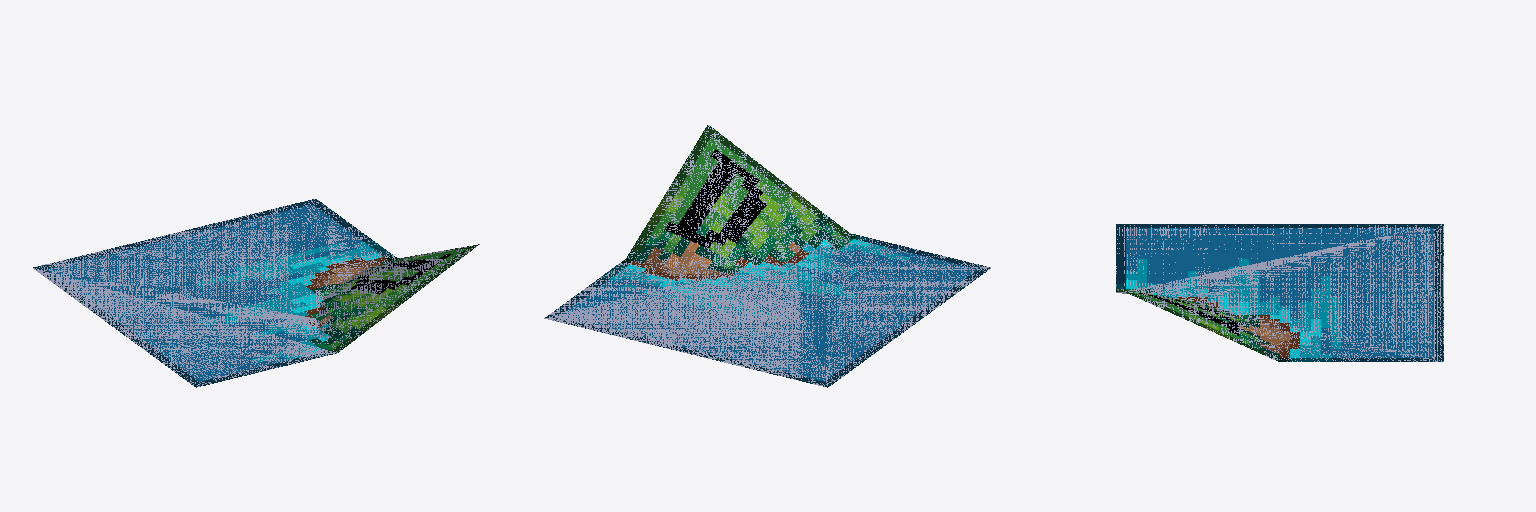
3 views of the same model, side by side, from view 1: azimuth 30°, elevation 25°; view 2: azimuth 150°, elevation 25°; view 3: azimuth 270°, elevation 25° (orthographic).
Parts seen in each view (by area): view 1: Mesh1 Model; view 2: Mesh1 Model; view 3: Mesh1 Model.
Boxes of the visible parts, <box> form: Mesh1 Model: <box>33,199,479,387</box>; Mesh1 Model: <box>544,125,990,387</box>; Mesh1 Model: <box>1116,224,1443,361</box>.
Size of the model in its own units: 32 by 8 by 32.
Materials: 2 (1 with a texture image).